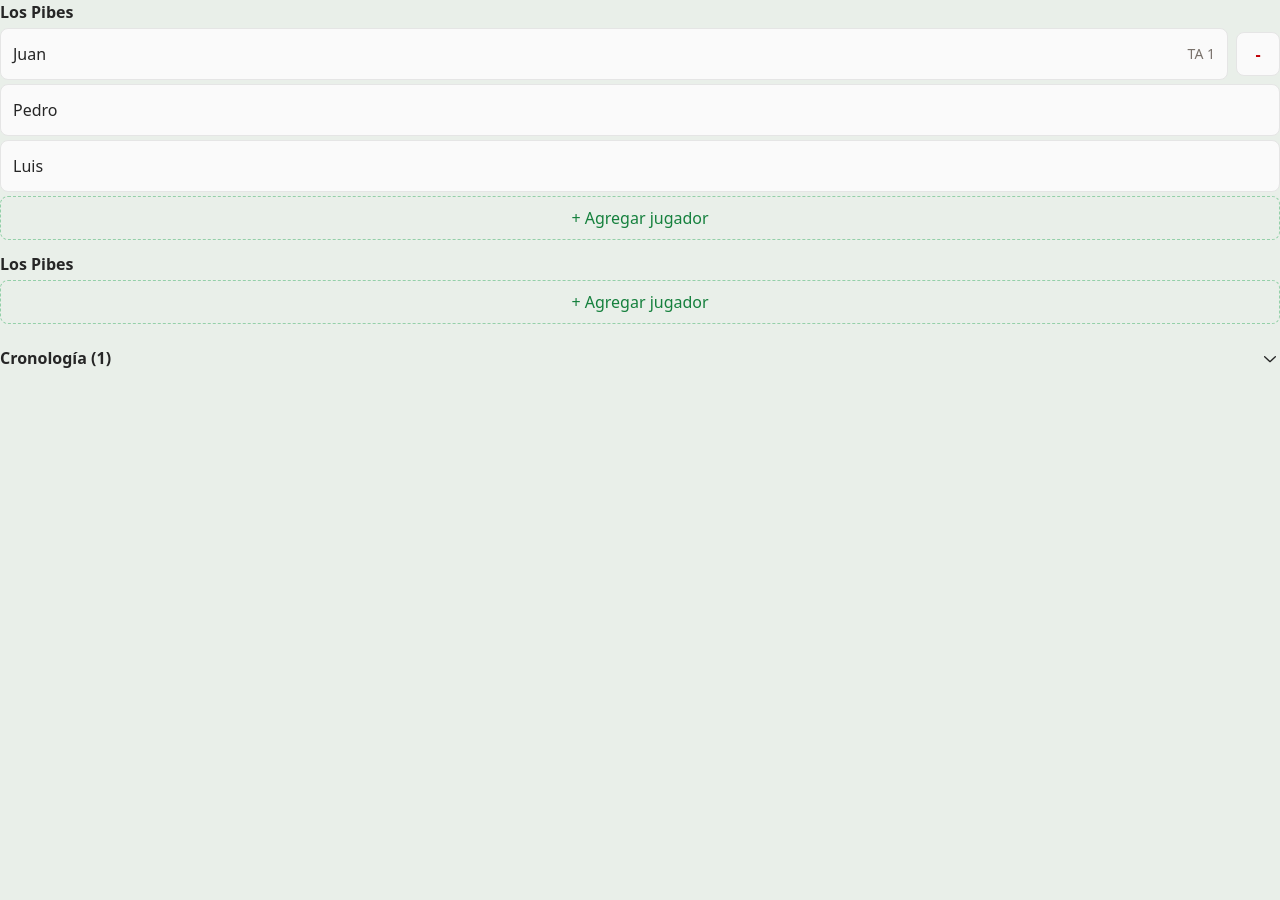
Test: CargaVivo compacta › quitar tarjeta muestra texto sin iconos
The image size is (1280, 900).
Click the button named "Quitar gol de Juan". click: (1258, 54)
box: [1236,32,1279,76]
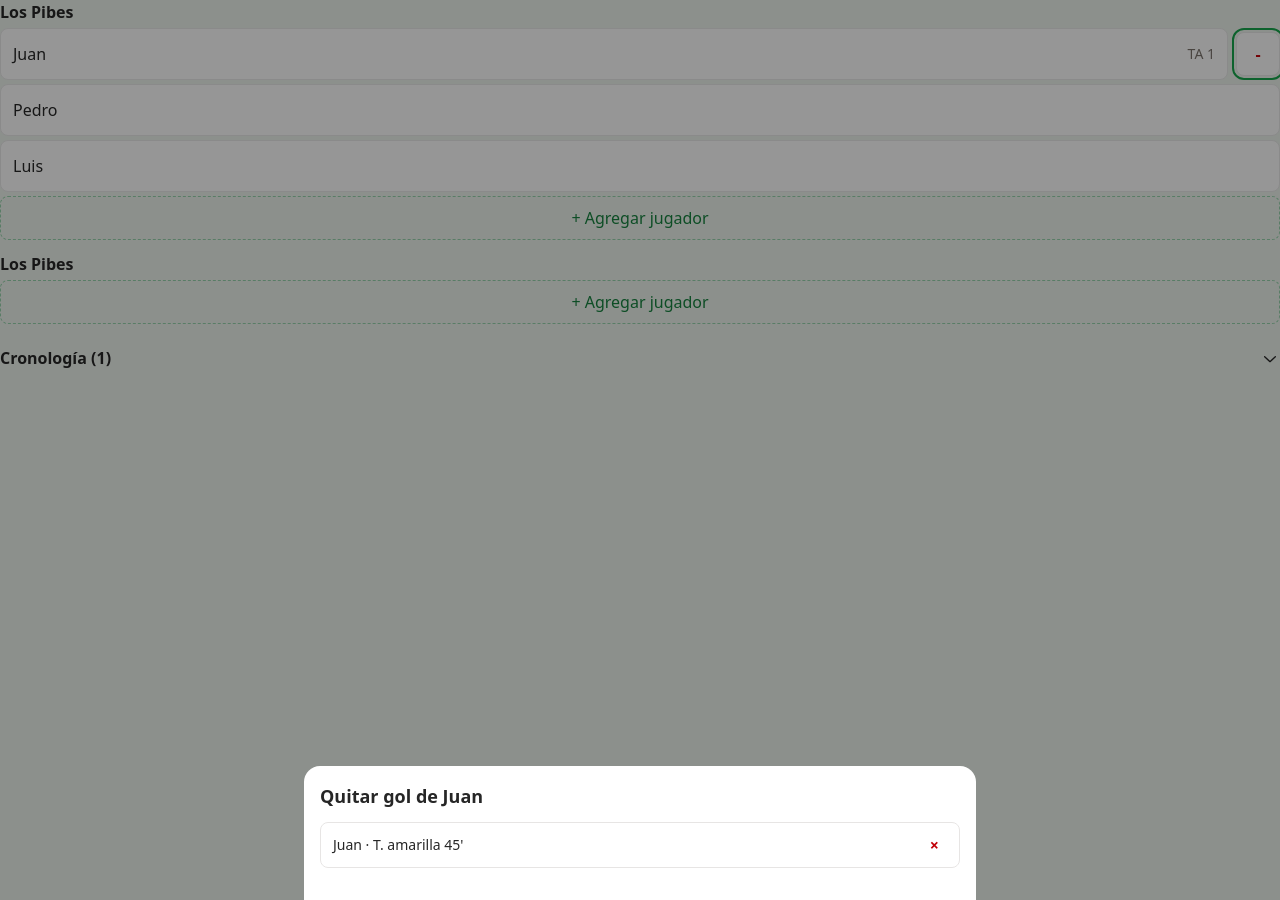
Expected: the text "Juan · T. amarilla 45'" is shown, [333,835,464,855]
